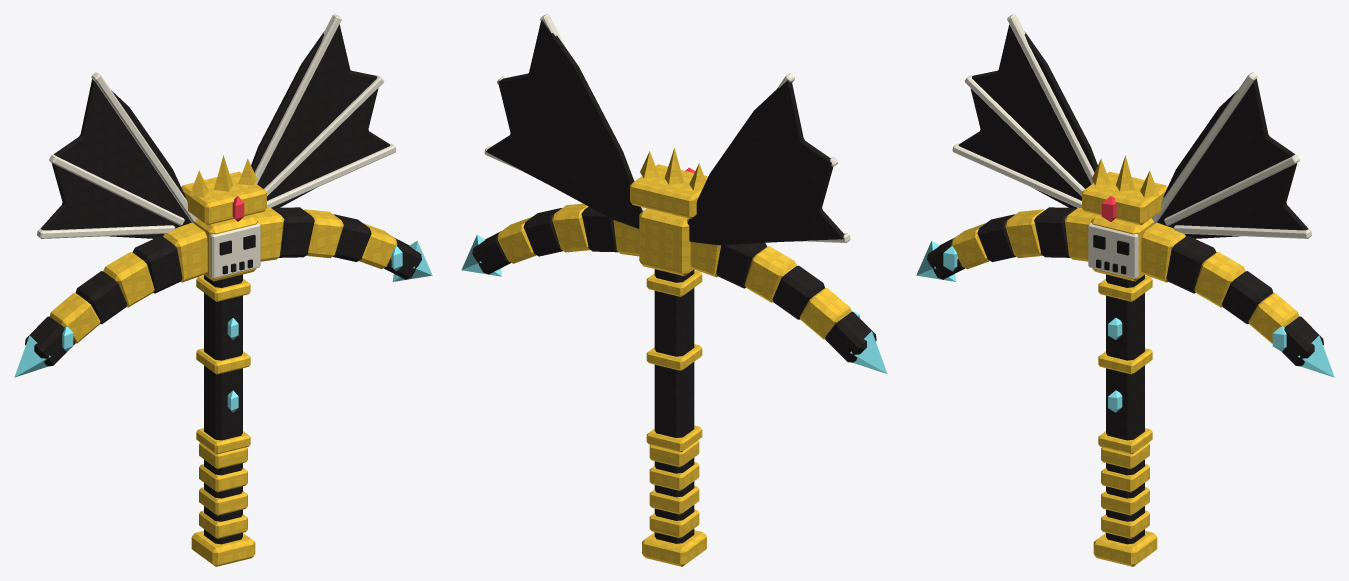
Rendered from outil_30_pioche_du_roi_fossile.glb.
3 renders of one model, left to right at view 1: azimuth 30°, elevation 25°; view 2: azimuth 150°, elevation 25°; view 3: azimuth 330°, elevation 25°, orthographic.
Visible parts, largest first — view 1: outil_30_pioche_du_roi_fossile; view 2: outil_30_pioche_du_roi_fossile; view 3: outil_30_pioche_du_roi_fossile.
Part boxes in pixels (x1,y1,x2,y2): outil_30_pioche_du_roi_fossile: (14,14,432,566); outil_30_pioche_du_roi_fossile: (461,14,887,566); outil_30_pioche_du_roi_fossile: (916,14,1334,566).
Size of the model in its own units: 6.03 by 6.96 by 0.7957.
Materials: 1 (1 with a texture image).
